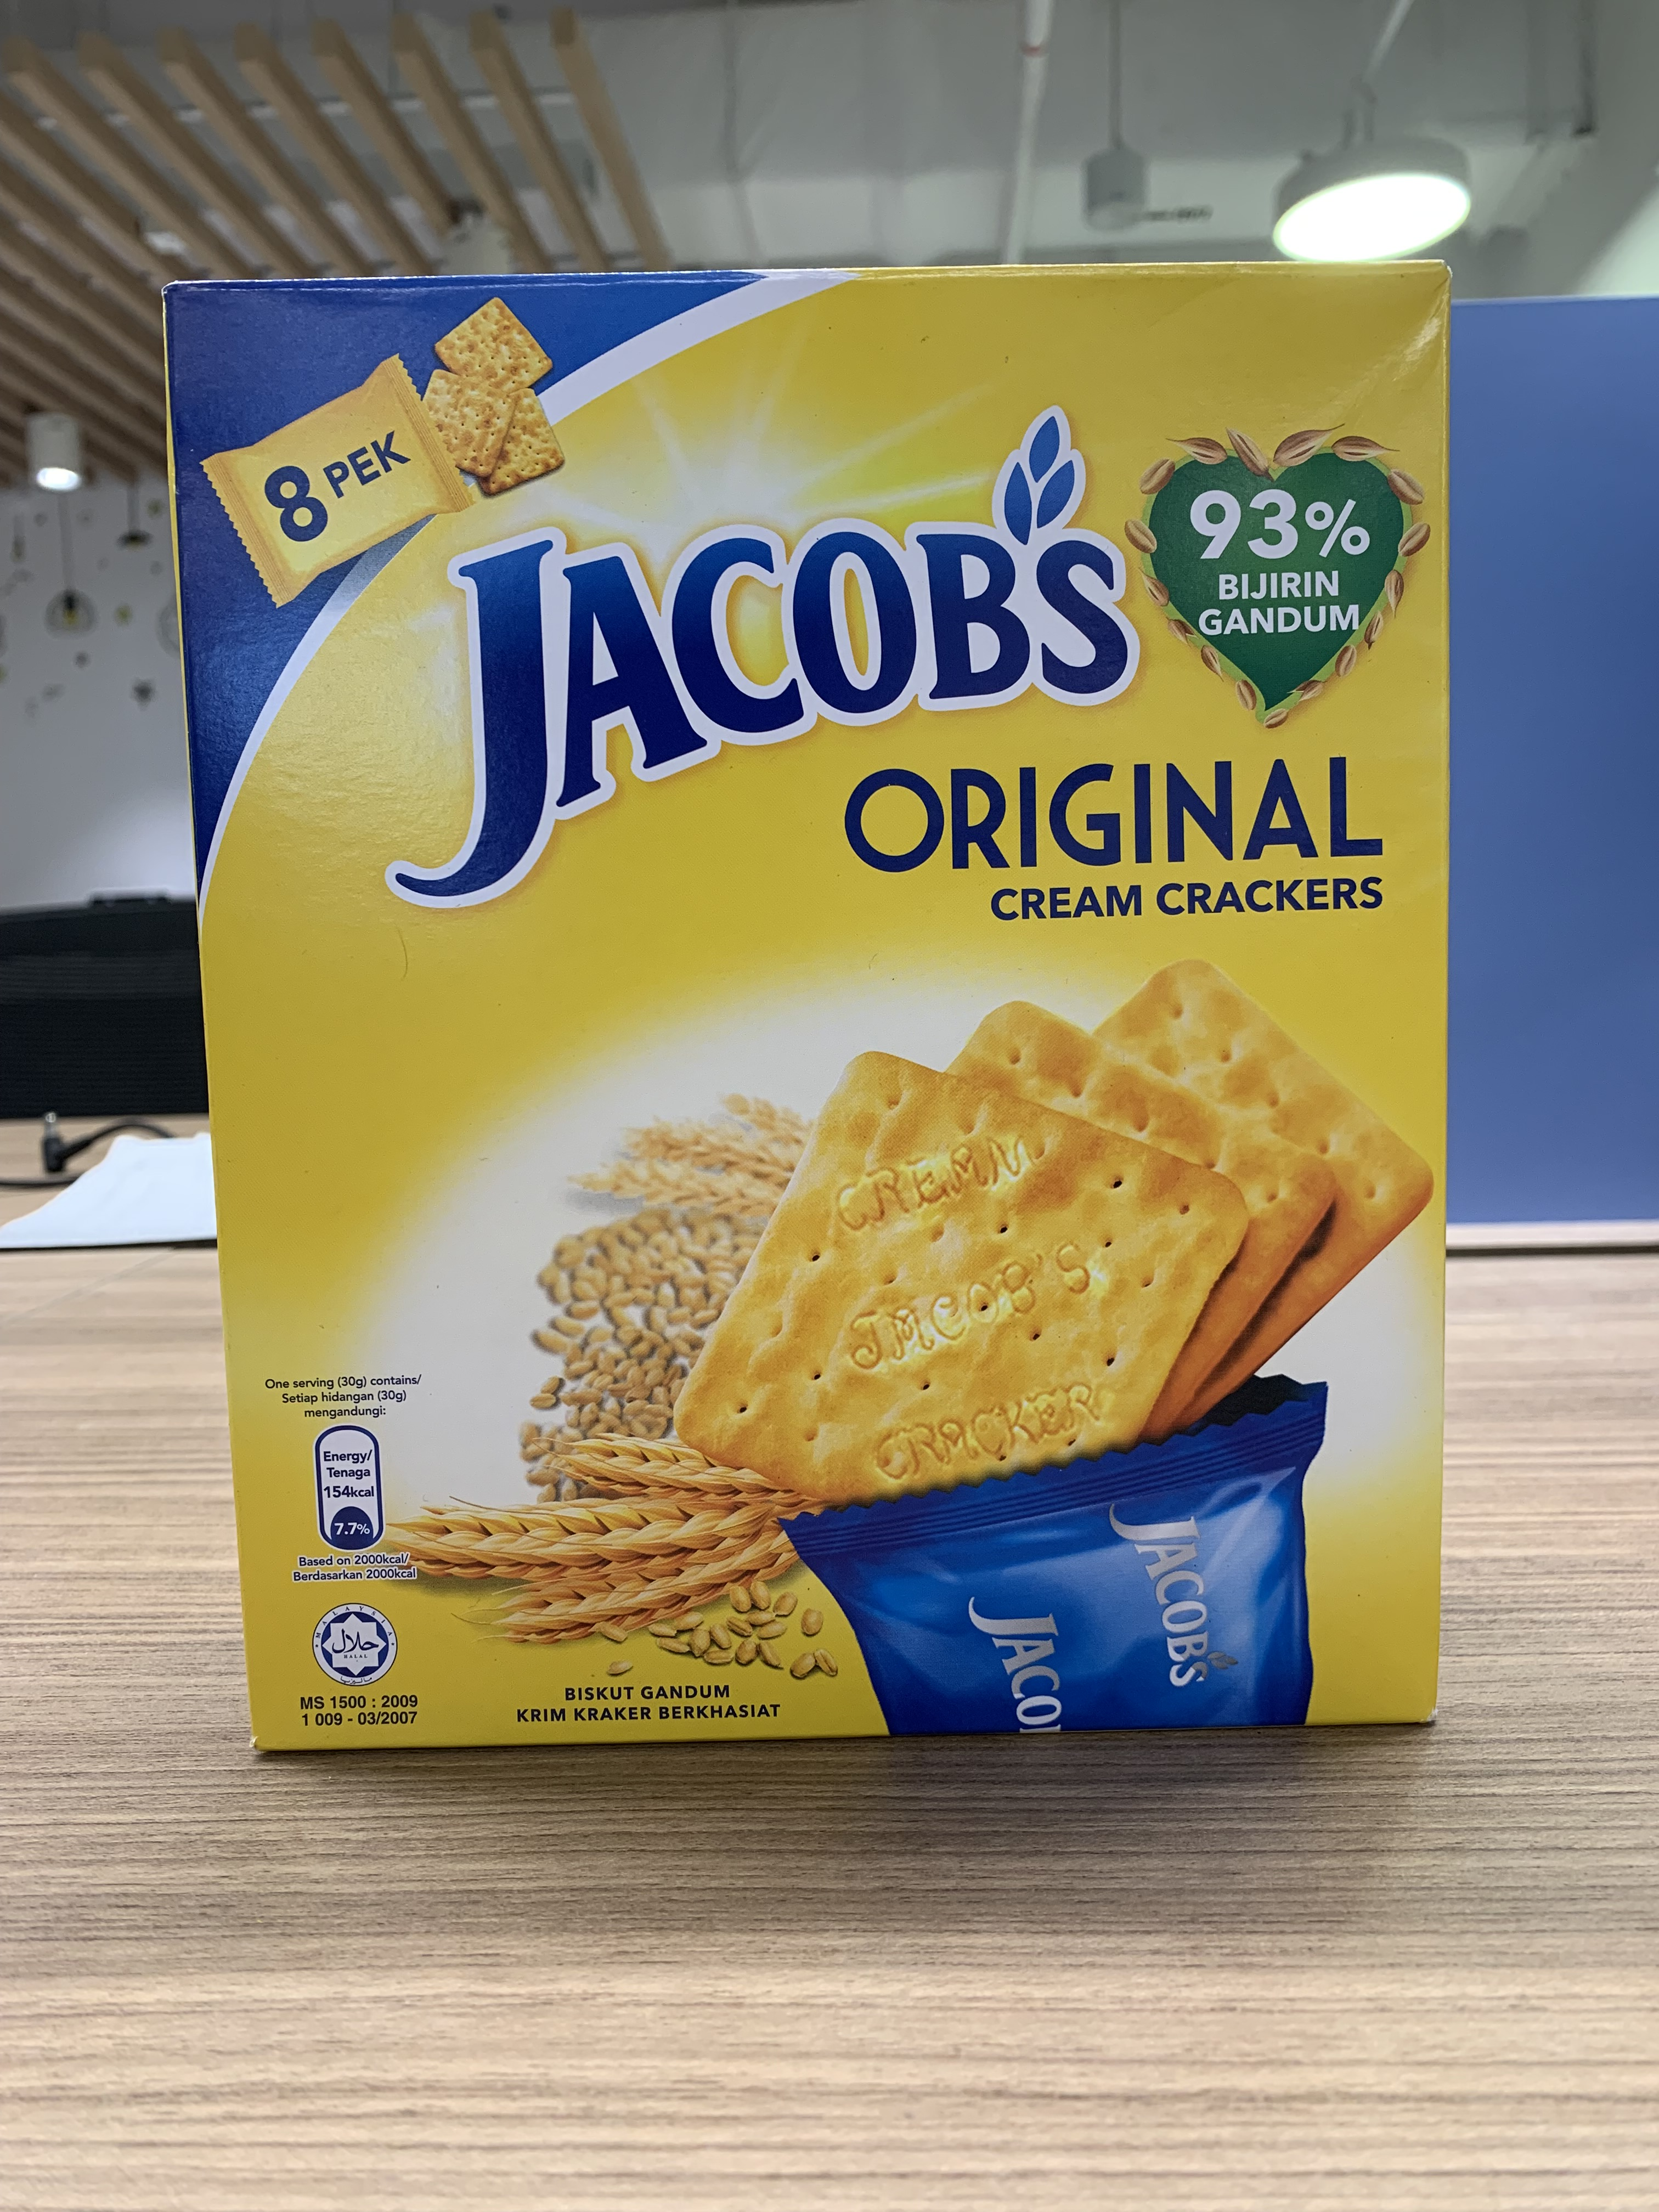crackers: (150, 256, 1459, 1745)
